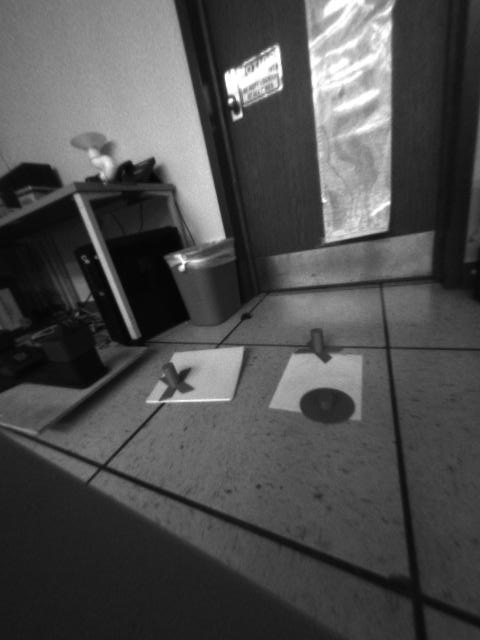X: (291, 326, 346, 362), (154, 360, 193, 403)
